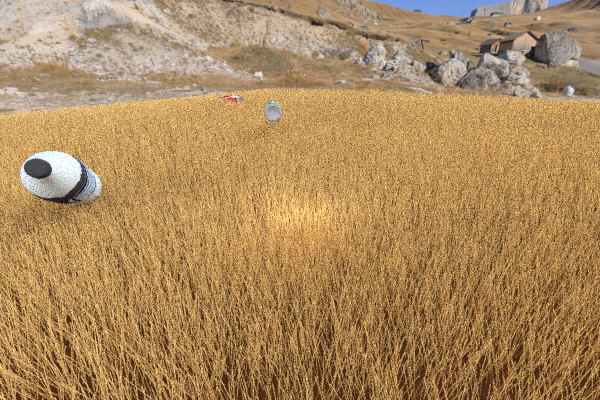Plastic Bottle: (20, 151, 101, 205), (264, 100, 282, 122), (217, 95, 243, 109)
